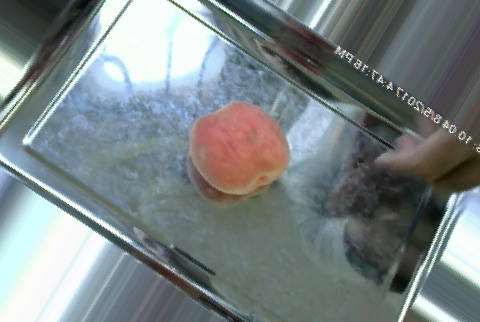Peach: (189, 101, 288, 196)
